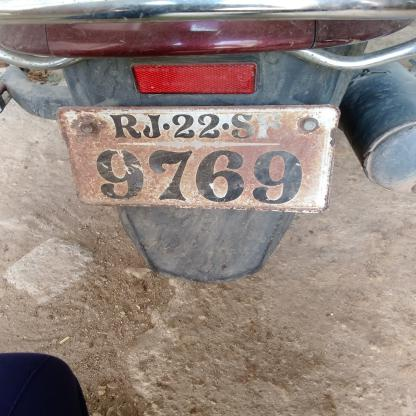Number_Plate_Detected: (67, 103, 337, 212)
